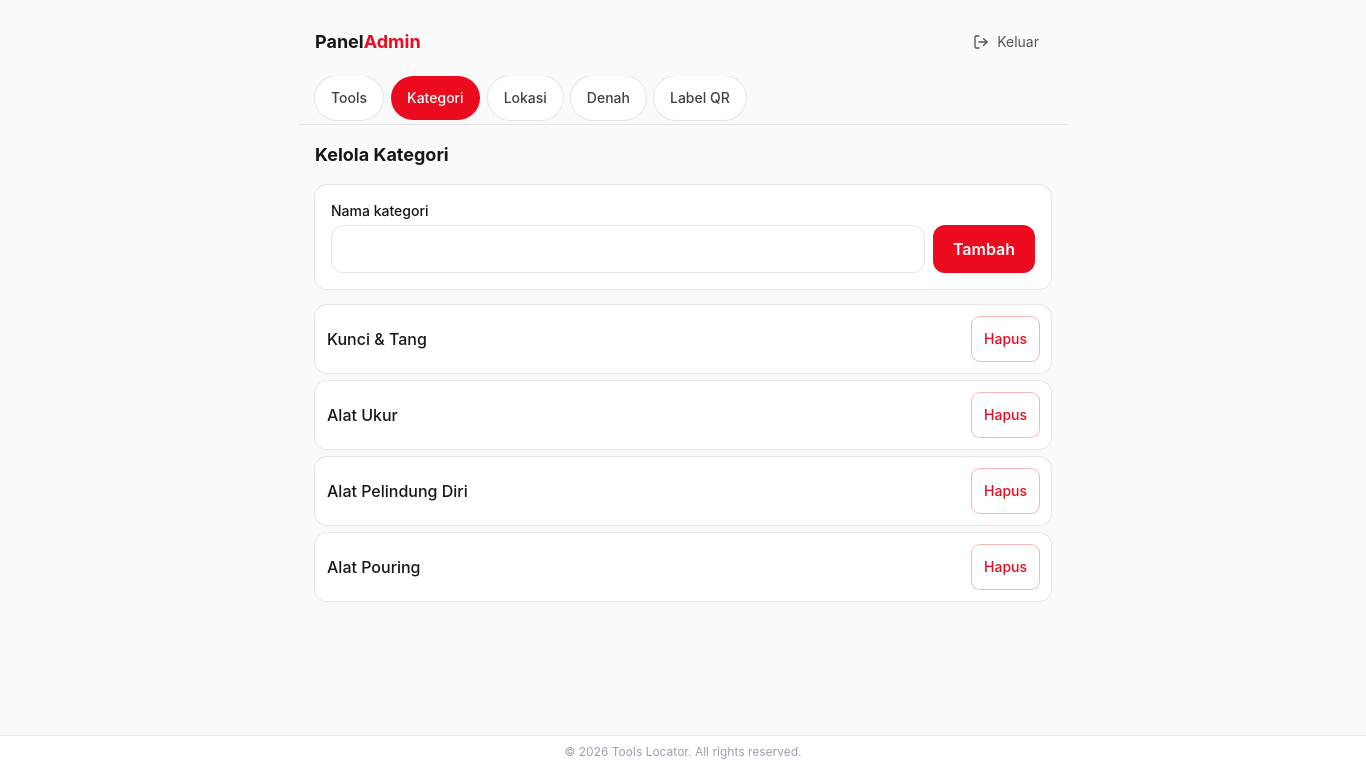
Test: menolak hapus kategori yang masih dipakai tools
Expected: the text "Kunci & Tang" is shown, [327, 329, 427, 349]
Click the button "Hapus" in the row of "Kunci & Tang".
click(1006, 339)  # box [972, 317, 1039, 361]
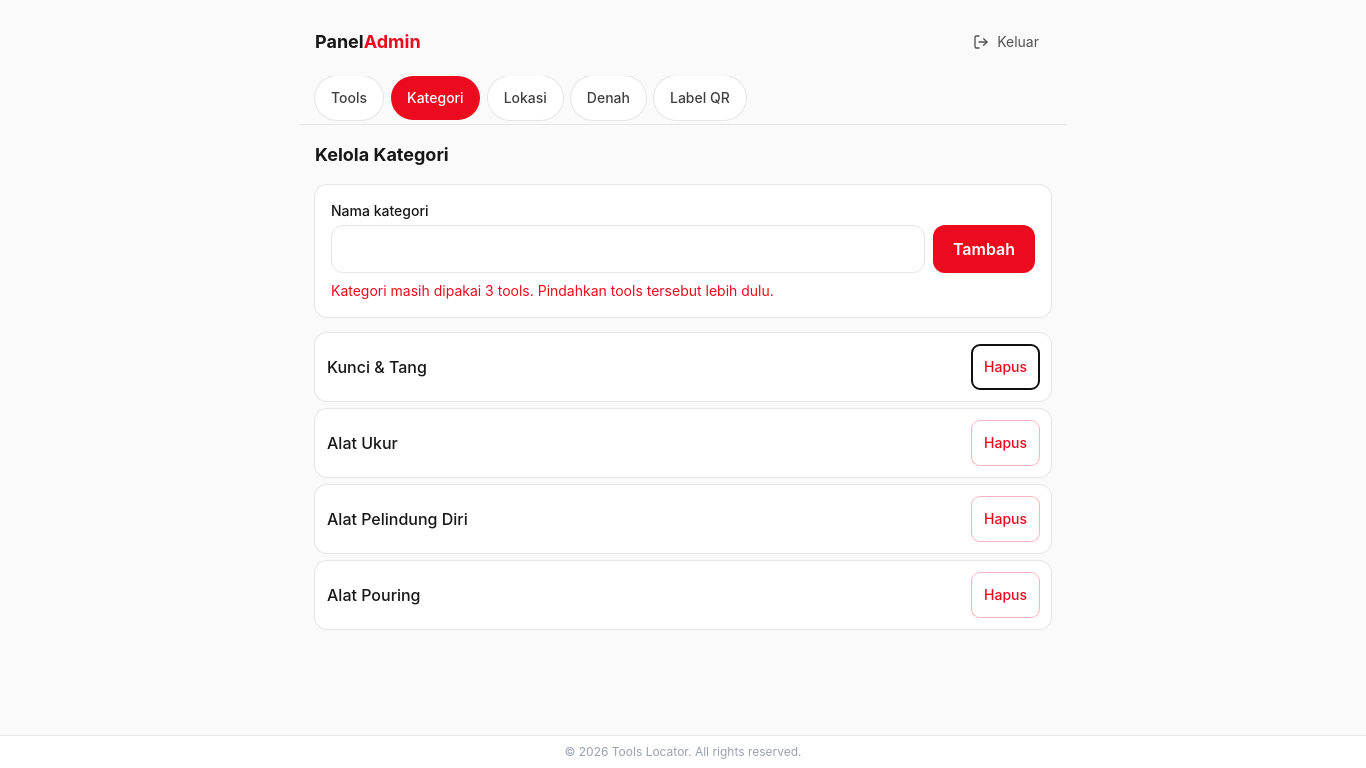
Expected: the text "Kunci & Tang" is shown, [327, 357, 427, 377]
Result: the text "masih dipakai" is shown at [331, 282, 774, 299]
